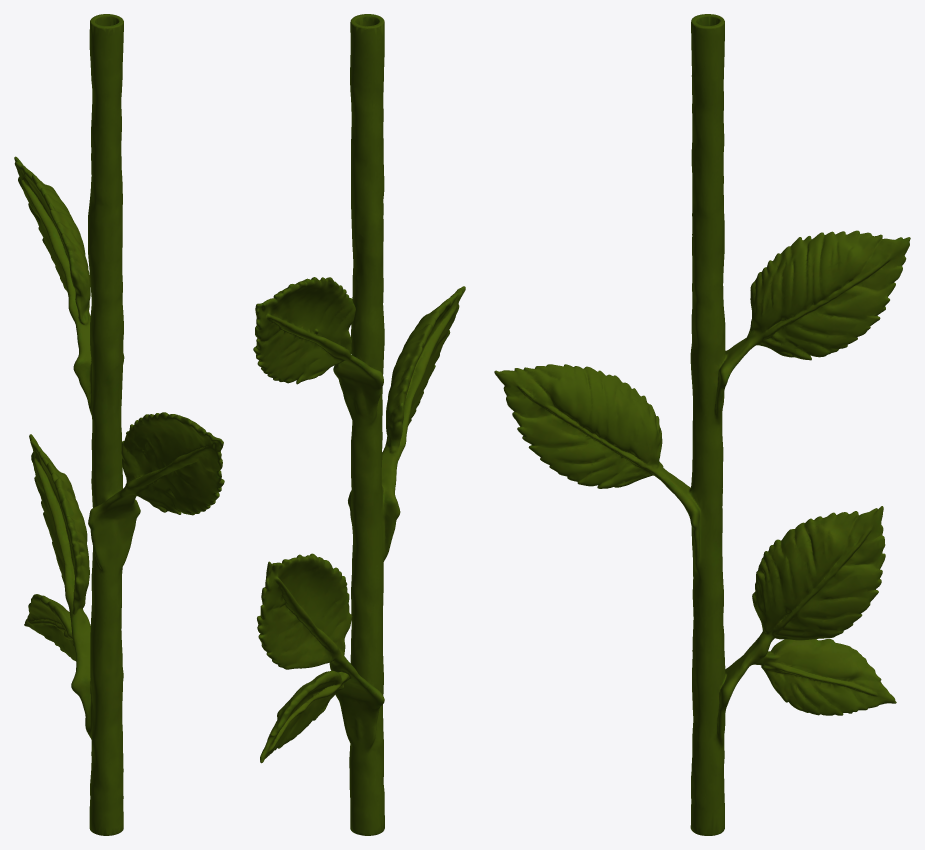
The model's file is plant stem 3d model_opt.glb.
3 renders of one model, left to right at view 1: azimuth 30°, elevation 25°; view 2: azimuth 150°, elevation 25°; view 3: azimuth 270°, elevation 25°, orthographic.
Parts seen in each view (by area): view 1: tripo_node_ba44ba6a-fe19-4276-8645-2a37bacd173c; view 2: tripo_node_ba44ba6a-fe19-4276-8645-2a37bacd173c; view 3: tripo_node_ba44ba6a-fe19-4276-8645-2a37bacd173c.
Boxes of the visible parts, x1,y1,x2,y2 form: tripo_node_ba44ba6a-fe19-4276-8645-2a37bacd173c: [14, 14, 224, 835]; tripo_node_ba44ba6a-fe19-4276-8645-2a37bacd173c: [253, 14, 465, 835]; tripo_node_ba44ba6a-fe19-4276-8645-2a37bacd173c: [494, 14, 910, 835].
Bounding box in the file's own units: 0.0686 × 1 × 0.4664.
Materials: 1 (1 with a texture image).
